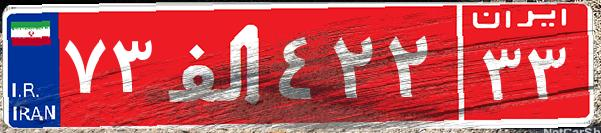2: (385, 28, 445, 110), (330, 28, 385, 110)
3: (475, 38, 525, 113), (110, 28, 158, 105), (525, 38, 570, 115)
4: (273, 28, 330, 110)
7: (57, 26, 110, 107)
الف: (158, 15, 273, 115)
